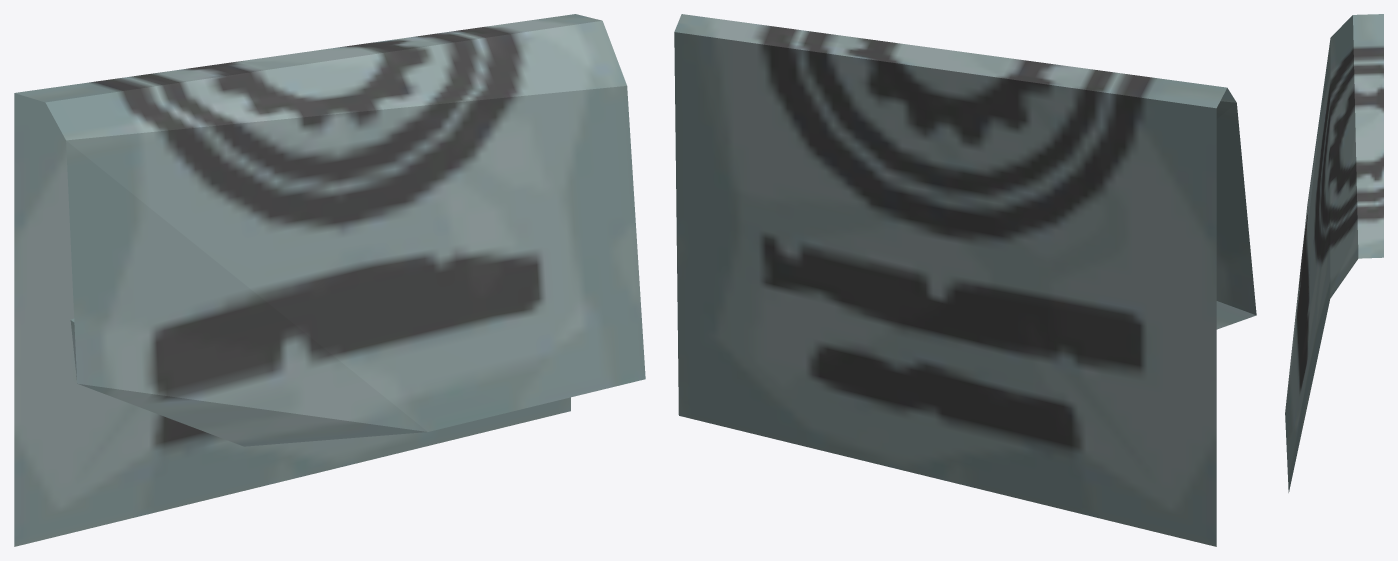
File: SM_Prop_Sign_Poster_18.obj
3 renders of one model, left to right at view 1: azimuth 30°, elevation 25°; view 2: azimuth 150°, elevation 25°; view 3: azimuth 270°, elevation 25°, orthographic. The views are drawn at different scales.
Visible parts, largest first — view 1: SM_Prop_Sign_Poster_18_0; view 2: SM_Prop_Sign_Poster_18_0; view 3: SM_Prop_Sign_Poster_18_0.
Part boxes in pixels (x1=…): SM_Prop_Sign_Poster_18_0: x1=14, y1=14, x2=645, y2=546; SM_Prop_Sign_Poster_18_0: x1=674, y1=14, x2=1256, y2=546; SM_Prop_Sign_Poster_18_0: x1=1285, y1=14, x2=1383, y2=492.
Bounding box in the file's own units: 0.4293 × 0.3257 × 0.0868.
1 material, 1 textured.
